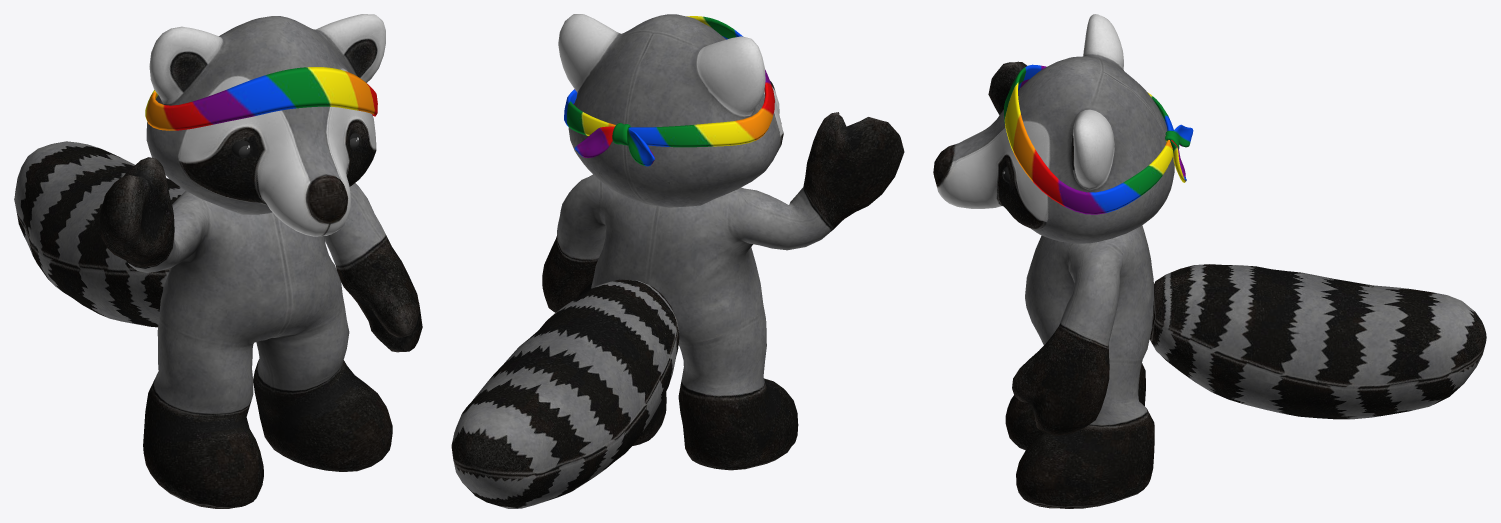
The model's file is raccoo.glb.
3 renders of one model, left to right at view 1: azimuth 30°, elevation 25°; view 2: azimuth 150°, elevation 25°; view 3: azimuth 270°, elevation 25°, orthographic. The views are drawn at different scales.
Visible parts, largest first — view 1: Raccoon_Body_low_2, Raccoon_head_low_0, Raccoon_Tail_low_1, Raccoon_Pride_low_4; view 2: Raccoon_Body_low_2, Raccoon_Tail_low_1, Raccoon_head_low_0, Raccoon_Pride_low_4; view 3: Raccoon_Tail_low_1, Raccoon_Body_low_2, Raccoon_head_low_0, Raccoon_Pride_low_4.
Part boxes in pixels (left/top/right/bottom): Raccoon_Body_low_2: left=99, top=157, right=422, bottom=508; Raccoon_head_low_0: left=146, top=14, right=385, bottom=236; Raccoon_Tail_low_1: left=14, top=141, right=185, bottom=327; Raccoon_Pride_low_4: left=145, top=67, right=377, bottom=130; Raccoon_Body_low_2: left=542, top=112, right=904, bottom=470; Raccoon_Tail_low_1: left=451, top=279, right=679, bottom=508; Raccoon_head_low_0: left=558, top=14, right=783, bottom=207; Raccoon_Pride_low_4: left=564, top=16, right=774, bottom=166; Raccoon_Tail_low_1: left=1149, top=264, right=1486, bottom=419; Raccoon_Body_low_2: left=988, top=61, right=1154, bottom=508; Raccoon_head_low_0: left=933, top=14, right=1174, bottom=243; Raccoon_Pride_low_4: left=1004, top=64, right=1193, bottom=214.
Size of the model in its own units: 0.4997 by 0.6407 by 0.7654.
Materials: 3 (3 with a texture image).
